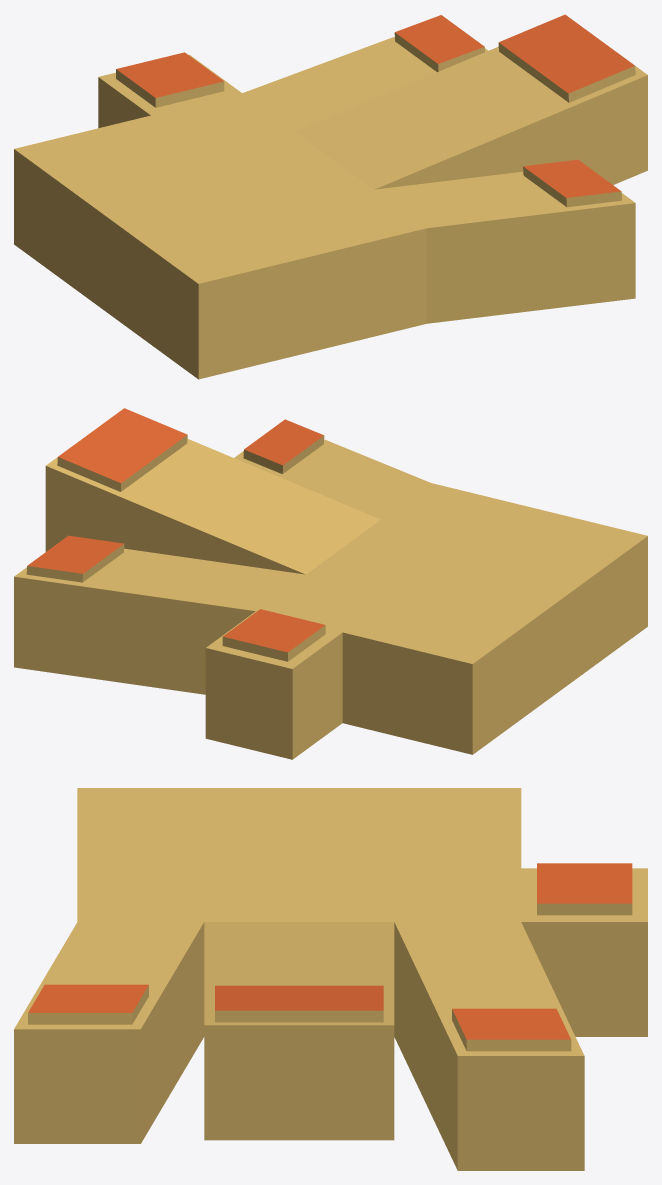
Rendered from hand.glb.
3 renders of one model, top to bottom at view 1: azimuth 30°, elevation 25°; view 2: azimuth 150°, elevation 25°; view 3: azimuth 270°, elevation 25°, orthographic. The views are drawn at different scales.
Parts seen in each view (by area): view 1: Cube.001; view 2: Cube.001; view 3: Cube.001.
Boxes of the visible parts, box(x1,y1,x2,y2) form: Cube.001: box(14, 14, 647, 379); Cube.001: box(14, 408, 647, 759); Cube.001: box(14, 788, 647, 1170).
Size of the model in its own units: 2.74 by 0.7886 by 2.49.
